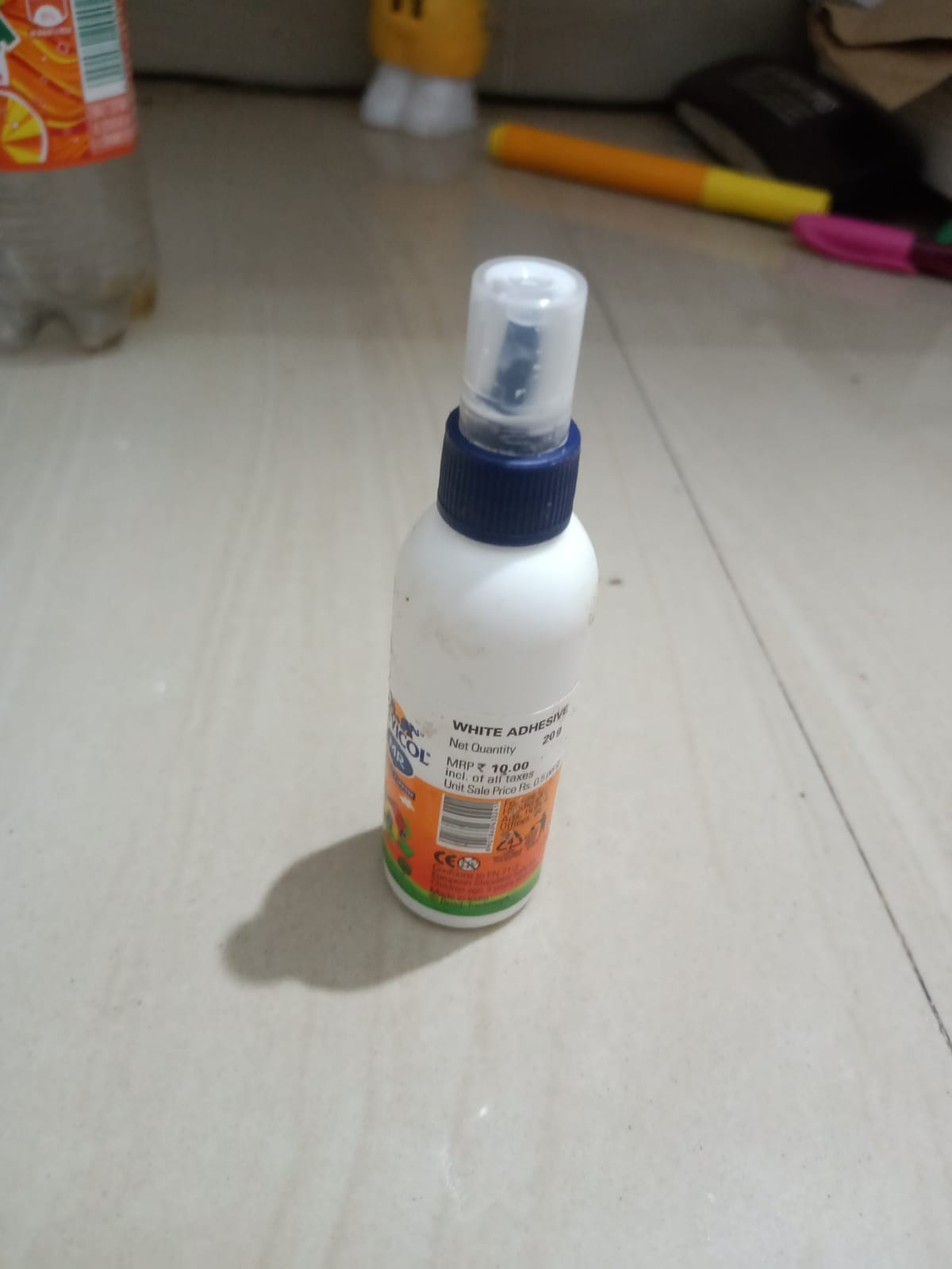plastic: (313, 231, 649, 1007)
